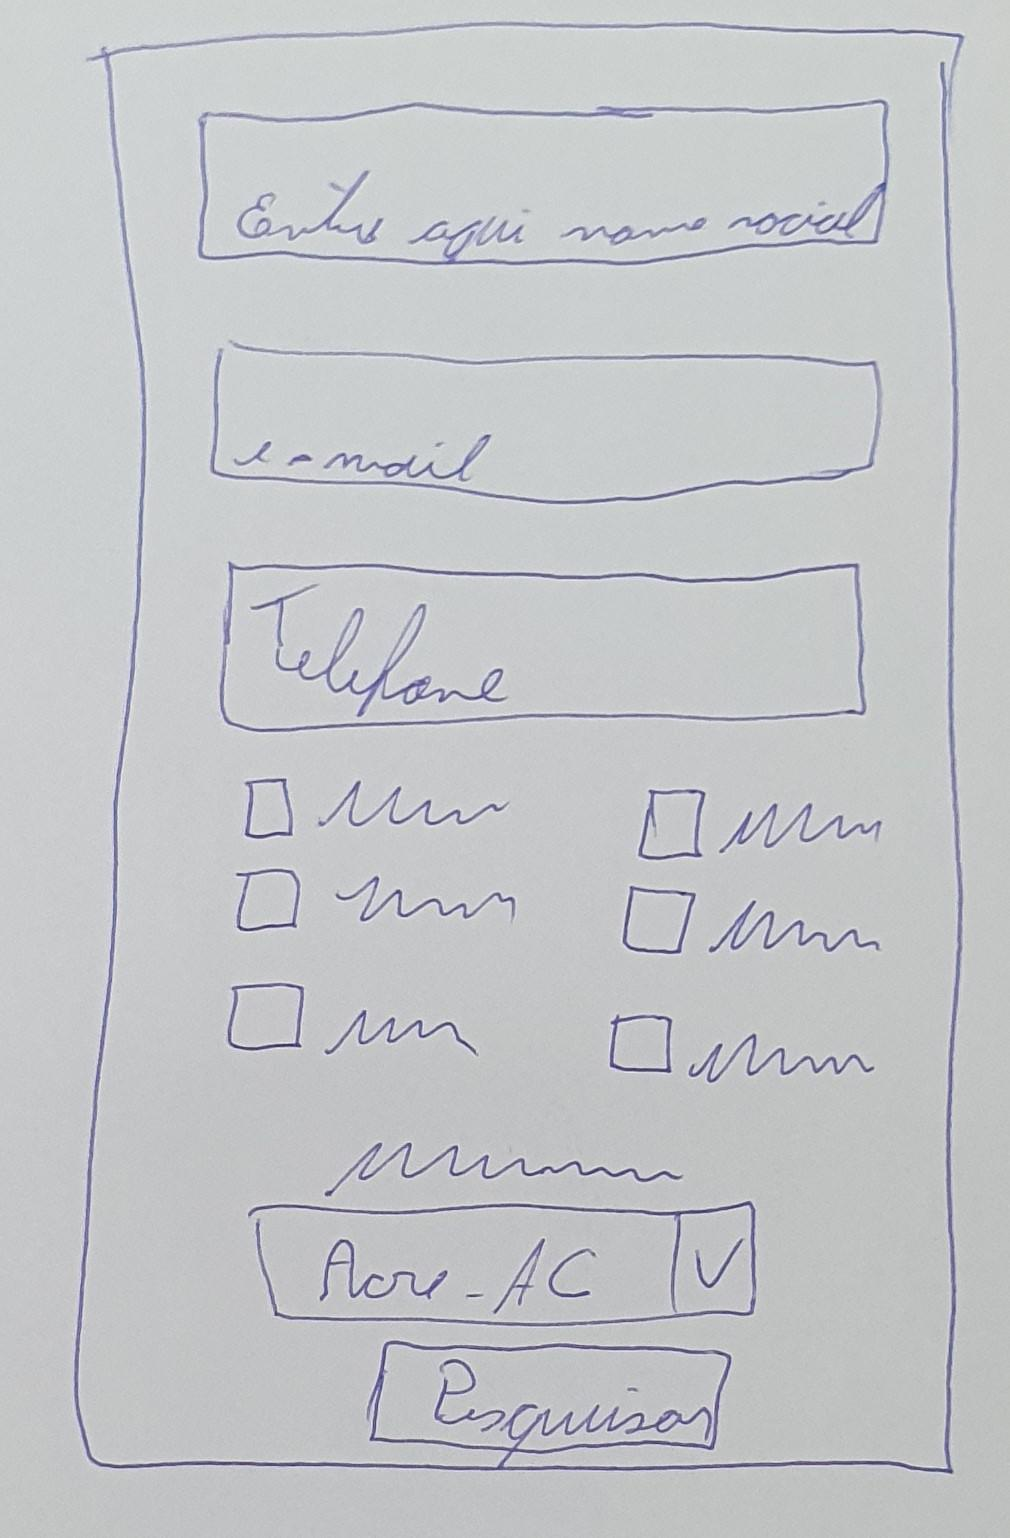Button: (198, 99, 888, 265), (367, 1340, 732, 1450)
CheckBox: (609, 1014, 876, 1085), (618, 884, 881, 954), (227, 983, 478, 1055), (237, 869, 516, 932), (637, 790, 880, 862), (243, 777, 511, 838)
Label: (326, 1143, 684, 1197)
ListPicker: (248, 1201, 756, 1326)
Screen: (72, 24, 966, 1474)
TextBox: (210, 338, 884, 503), (220, 561, 866, 731)
